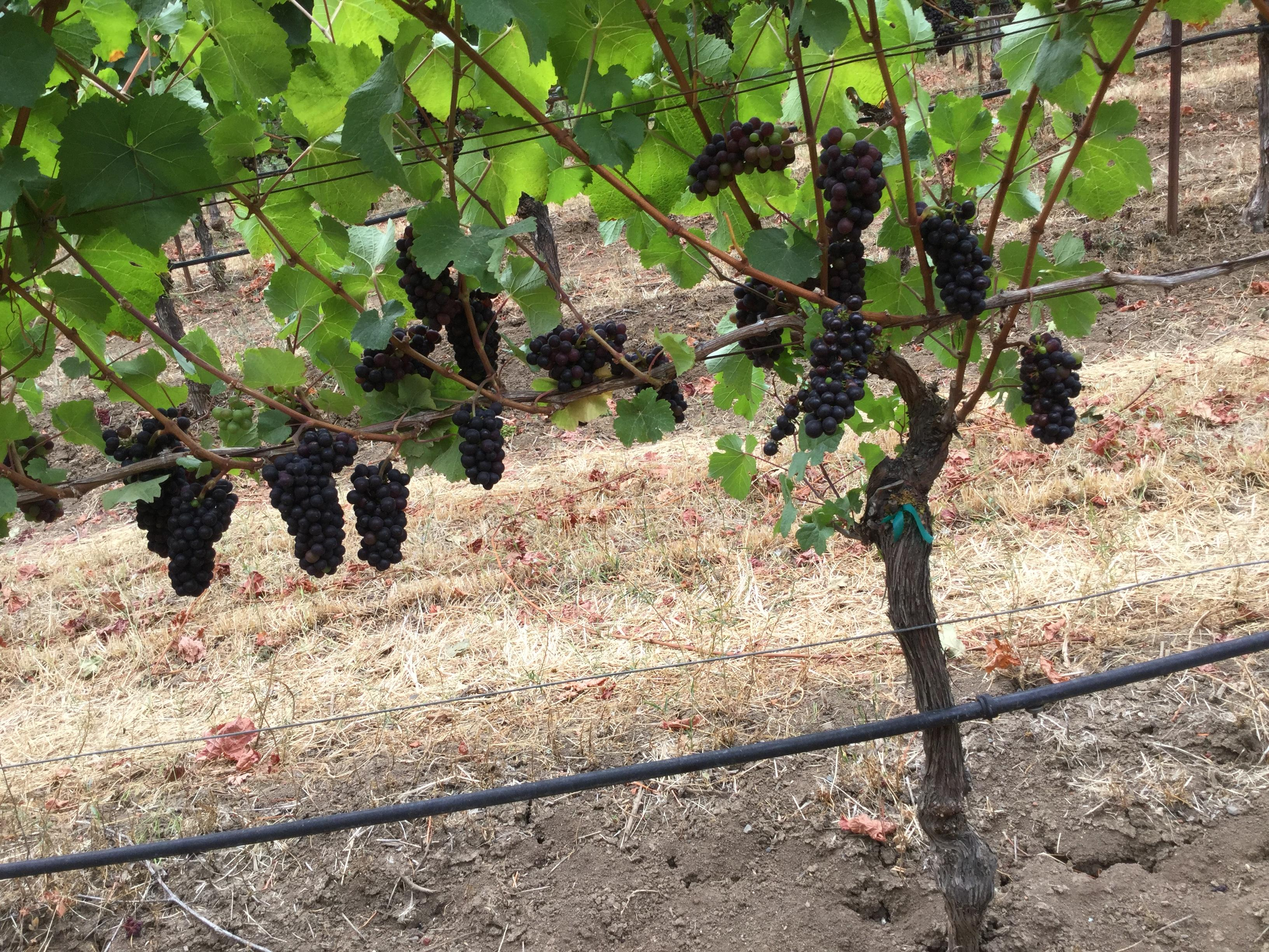leaf: (58, 94, 217, 247), (341, 42, 416, 193), (190, 0, 291, 100), (457, 116, 548, 220), (285, 43, 378, 141), (547, 0, 655, 76), (294, 143, 390, 221), (481, 21, 556, 108), (0, 10, 55, 107), (499, 255, 562, 336), (626, 136, 689, 213), (1033, 12, 1091, 92), (744, 224, 819, 283), (574, 110, 645, 170), (639, 227, 709, 287), (729, 4, 786, 73), (41, 271, 114, 324), (263, 266, 329, 324), (506, 0, 566, 63), (929, 93, 993, 152), (614, 387, 674, 446), (81, 0, 136, 62), (566, 60, 633, 110), (708, 434, 756, 499), (51, 399, 104, 451), (239, 347, 305, 388), (351, 299, 404, 350), (475, 71, 532, 118), (800, 0, 851, 51), (0, 144, 40, 208), (100, 474, 168, 509), (587, 172, 634, 219), (550, 394, 609, 430), (654, 329, 695, 376), (180, 327, 222, 369), (1159, 0, 1228, 25), (173, 350, 219, 384), (0, 402, 31, 444), (24, 457, 67, 485), (257, 408, 290, 443), (856, 441, 886, 474), (0, 478, 16, 537), (406, 170, 433, 200), (465, 201, 496, 224), (690, 229, 703, 236), (477, 0, 501, 3), (647, 390, 654, 396), (888, 35, 894, 42), (643, 215, 650, 220), (618, 404, 620, 413), (204, 52, 206, 58), (909, 143, 910, 154), (325, 139, 329, 141), (465, 7, 467, 10), (626, 443, 628, 445), (552, 387, 554, 389), (116, 80, 117, 84), (199, 30, 201, 32), (900, 40, 902, 42), (666, 404, 667, 407), (790, 24, 791, 27), (745, 116, 747, 117), (628, 227, 628, 234), (297, 152, 297, 156), (446, 110, 447, 110)
